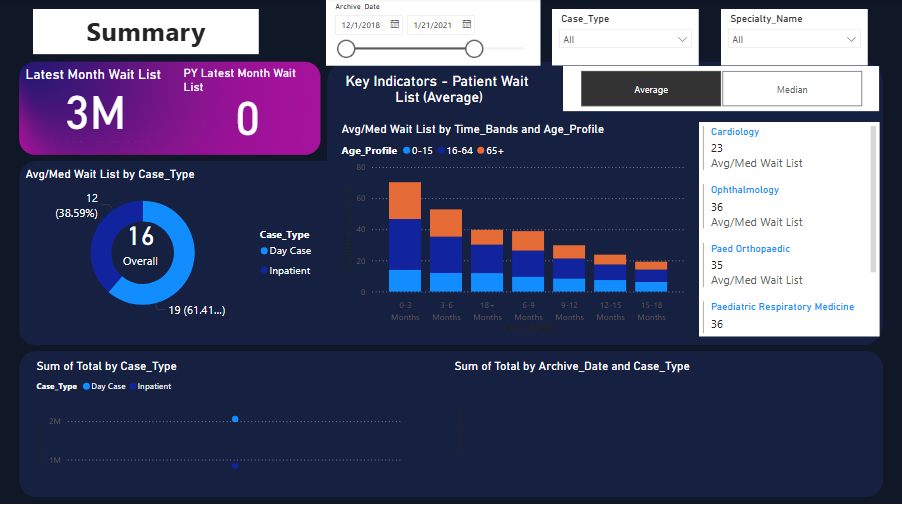

This screenshot's page, from the dashboard's own definition file:
{"tool":"powerbi","page":{"name":"Summary","canvas":[1280,720],"ordinal":0},"visuals":[{"type":"card","fields":{"Values":["All_Data.Latest Month Wait List"]},"box":[32,96,208,112],"z":0},{"type":"card","fields":{"Values":["All_Data.PY Latest Month Wait List"]},"box":[256,96,192,112],"z":1000},{"type":"slicer","fields":{"Values":["Table.Calc Method"]},"box":[800,96,448,64],"z":2000},{"type":"donutChart","fields":{"Category":["All_Data.Case_Type"],"Y":["All_Data.Avg/Med Wait List"]},"box":[32,240,432,224],"z":3000},{"type":"columnChart","fields":{"Y":["All_Data.Avg/Med Wait List"],"Category":["All_Data.Time_Bands"],"Series":["All_Data.Age_Profile"]},"box":[480,176,496,304],"z":4000},{"type":"multiRowCard","fields":{"Values":["All_Data.Specialty_Name","All_Data.Avg/Med Wait List"]},"box":[992,176,256,304],"z":5000},{"type":"lineChart","fields":{"Y":["Sum(All_Data.Total)"],"Series":["All_Data.Case_Type"]},"box":[48,512,528,176],"z":6000},{"type":"lineChart","fields":{"Category":["All_Data.Archive_Date"],"Y":["Sum(All_Data.Total)"],"Series":["All_Data.Case_Type"]},"box":[640,512,592,176],"z":7000},{"type":"slicer","fields":{"Values":["All_Data.Archive_Date"]},"box":[464,0,304,96],"z":8000},{"type":"slicer","fields":{"Values":["All_Data.Case_Type"]},"box":[784,16,208,80],"z":9000},{"type":"slicer","fields":{"Values":["All_Data.Specialty_Name"]},"box":[1024,16,208,80],"z":10000},{"type":"textbox","box":[48,16,320,64],"z":11000},{"type":"card","fields":{"Values":["All_Data.Avg/Med Wait List"]},"box":[144,304,112,80],"z":12000},{"type":"card","fields":{"Values":["All_Data.Dynamic Title"]},"box":[464,96,320,64],"z":13000}]}

Visuals, with their boxes in screenshot pixels (x1, y1, x2, y2), scaled from the page's 1280x720 canvas onto the 902x506 screenshot:
card - All_Data.Latest Month Wait List: [left=23, top=67, right=169, bottom=146]
card - All_Data.PY Latest Month Wait List: [left=180, top=67, right=316, bottom=146]
slicer - Table.Calc Method: [left=564, top=67, right=879, bottom=112]
donutChart - All_Data.Case_Type x All_Data.Avg/Med Wait List: [left=23, top=169, right=327, bottom=326]
columnChart - All_Data.Avg/Med Wait List x All_Data.Time_Bands: [left=338, top=124, right=688, bottom=337]
multiRowCard - All_Data.Specialty_Name x All_Data.Avg/Med Wait List: [left=699, top=124, right=879, bottom=337]
lineChart - Sum(All_Data.Total) x All_Data.Case_Type: [left=34, top=360, right=406, bottom=484]
lineChart - All_Data.Archive_Date x Sum(All_Data.Total): [left=451, top=360, right=868, bottom=484]
slicer - All_Data.Archive_Date: [left=327, top=0, right=541, bottom=67]
slicer - All_Data.Case_Type: [left=552, top=11, right=699, bottom=67]
slicer - All_Data.Specialty_Name: [left=722, top=11, right=868, bottom=67]
textbox: [left=34, top=11, right=259, bottom=56]
card - All_Data.Avg/Med Wait List: [left=101, top=214, right=180, bottom=270]
card - All_Data.Dynamic Title: [left=327, top=67, right=552, bottom=112]
